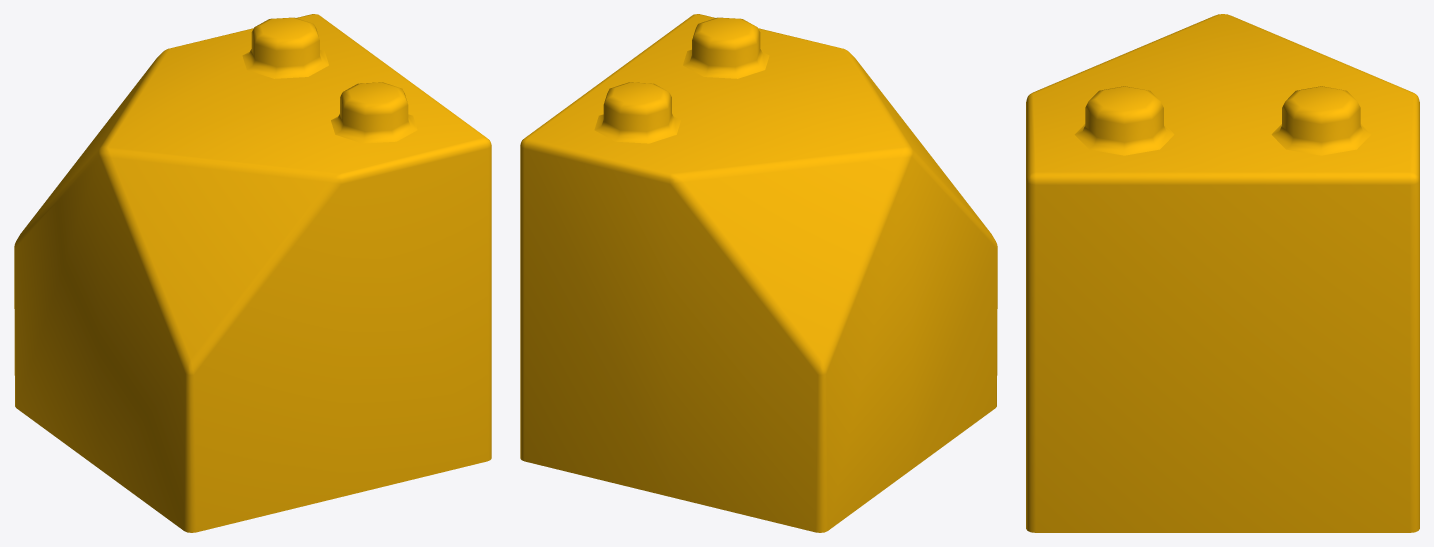
The model's file is Bevel_Two_Vertex_Parallel.fbx.
The picture shows the model from 3 angles, left to right: view 1: azimuth 30°, elevation 25°; view 2: azimuth 150°, elevation 25°; view 3: azimuth 270°, elevation 25°; orthographic projection. The views are drawn at different scales.
Parts seen in each view (by area): view 1: Bevel_Two_Vertex_Parallel, Knobs.016; view 2: Bevel_Two_Vertex_Parallel, Knobs.016; view 3: Bevel_Two_Vertex_Parallel, Knobs.016.
Part boxes in pixels (x1,y1,x2,y2): Bevel_Two_Vertex_Parallel: (14,14,491,532); Knobs.016: (242,17,417,143); Bevel_Two_Vertex_Parallel: (520,14,997,532); Knobs.016: (594,17,769,143); Bevel_Two_Vertex_Parallel: (1026,14,1419,532); Knobs.016: (1074,86,1371,155).
Bounding box in the file's own units: 1 × 1.1 × 1.
